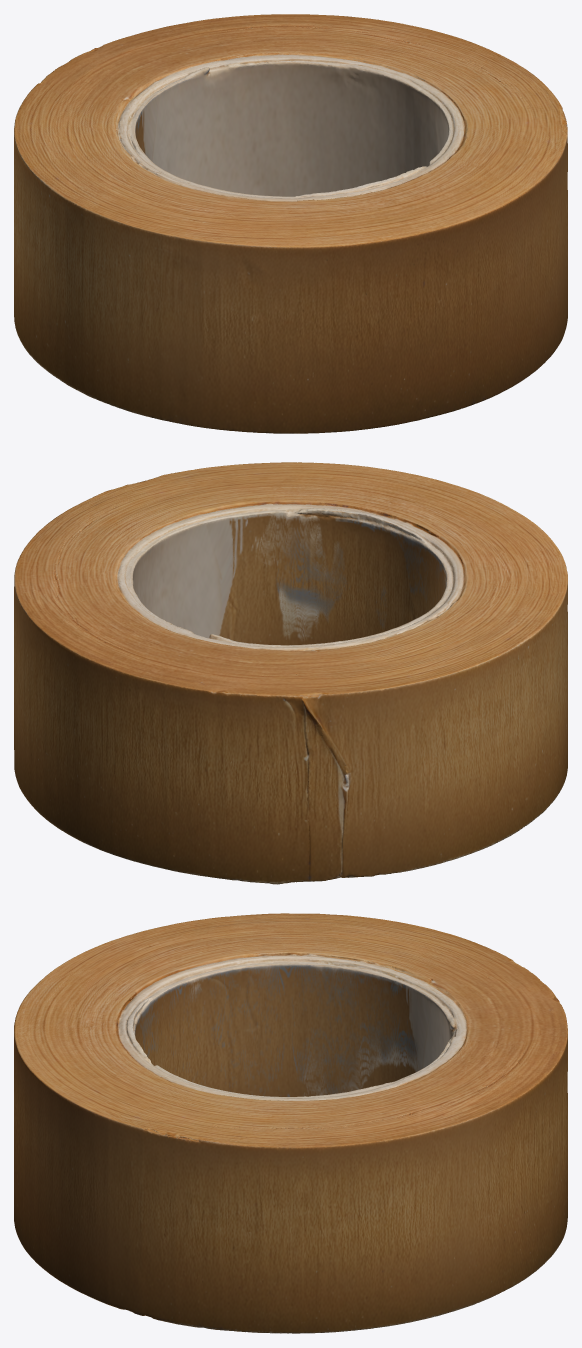
Rendered from PackingTape.glb.
3 views of the same model, one above another, from view 1: azimuth 30°, elevation 25°; view 2: azimuth 150°, elevation 25°; view 3: azimuth 270°, elevation 25° (orthographic).
Visible parts, largest first — view 1: texture_mapping; view 2: texture_mapping; view 3: texture_mapping.
Boxes of the visible parts, <box> form: texture_mapping: <box>14,14,567,433</box>; texture_mapping: <box>14,462,567,884</box>; texture_mapping: <box>14,913,567,1333</box>.
Bounding box in the file's own units: 0.9999 × 0.3933 × 0.9999.
Materials: 1 (1 with a texture image).
